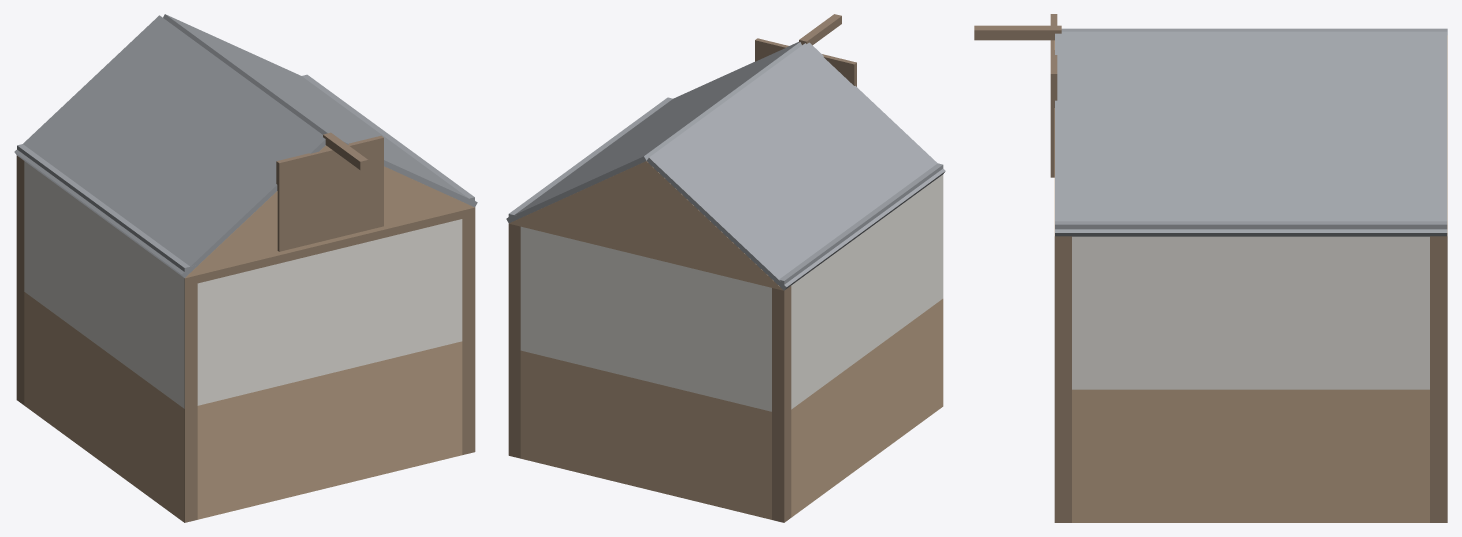
The model's file is hay-loft-end.glb.
3 renders of one model, left to right at view 1: azimuth 30°, elevation 25°; view 2: azimuth 150°, elevation 25°; view 3: azimuth 270°, elevation 25°, orthographic. The views are drawn at different scales.
Parts seen in each view (by area): view 1: hay-loft-end; view 2: hay-loft-end; view 3: hay-loft-end.
Boxes of the visible parts, left/top/right/bottom form: hay-loft-end: left=14, top=14, right=477, bottom=522; hay-loft-end: left=506, top=14, right=945, bottom=522; hay-loft-end: left=974, top=14, right=1447, bottom=522.
Size of the model in its own units: 3.67 by 4.17 by 4.34.
